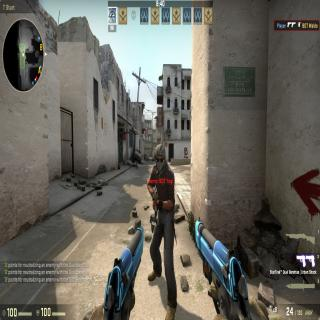T-Body: (147, 140, 180, 318)
T-Head: (153, 142, 167, 172)
